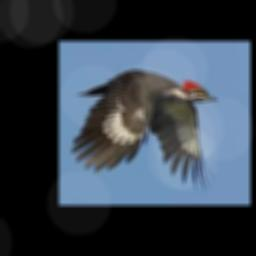Woodpecker: (71, 69, 217, 192)
